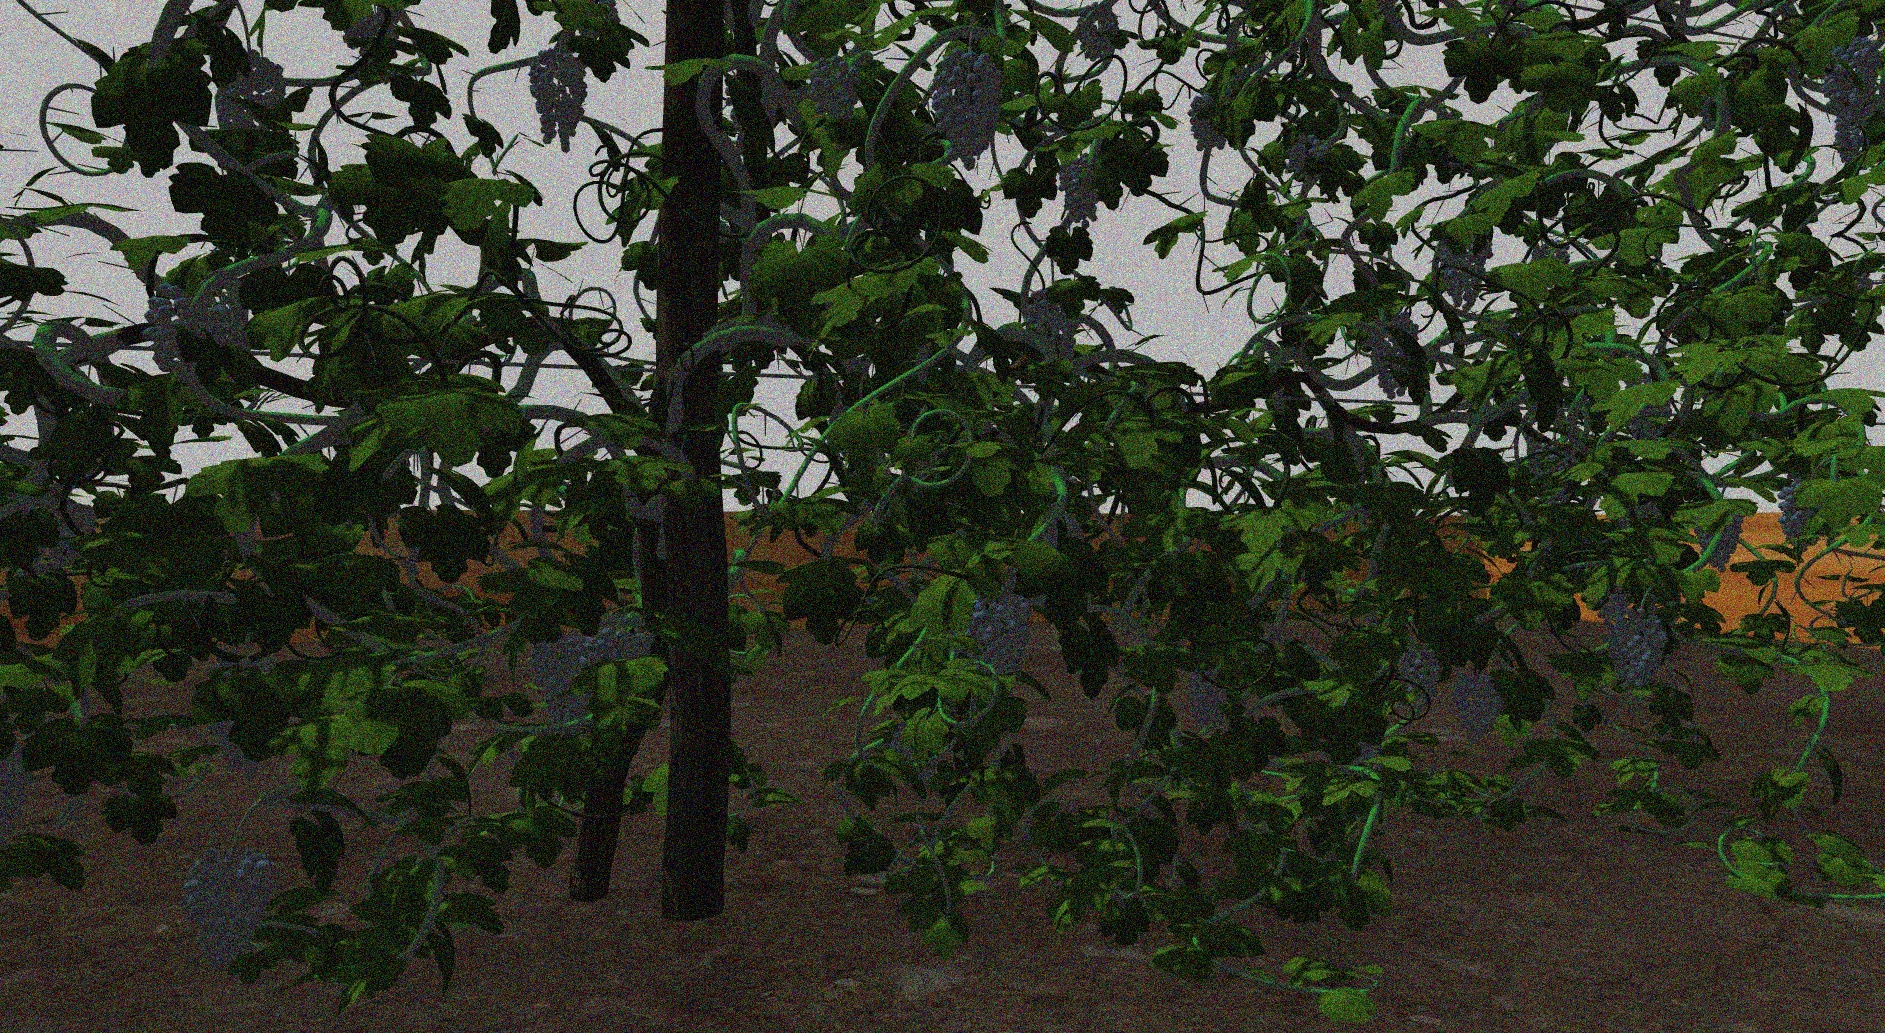grape: (140, 267, 254, 408), (181, 849, 282, 973), (929, 42, 1005, 173), (525, 47, 590, 156), (212, 42, 287, 134), (530, 635, 591, 737), (969, 593, 1035, 678), (1606, 609, 1669, 695), (1437, 220, 1489, 312), (1028, 282, 1082, 368), (1372, 312, 1422, 397), (806, 55, 864, 125), (1453, 677, 1509, 747), (1824, 39, 1880, 109), (1776, 480, 1821, 555), (1694, 506, 1744, 575), (594, 613, 654, 669), (1054, 154, 1101, 223), (1397, 642, 1444, 704), (1185, 673, 1234, 731), (1077, 3, 1123, 64), (1829, 107, 1865, 163), (1283, 134, 1330, 176)
